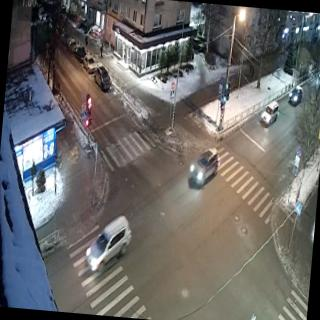small-vehicle: (84, 214, 134, 274), (186, 148, 221, 188), (258, 98, 280, 128), (94, 62, 115, 92), (284, 83, 304, 107), (80, 51, 97, 75), (72, 41, 86, 63), (66, 37, 78, 55), (59, 28, 69, 46), (315, 68, 320, 84)
